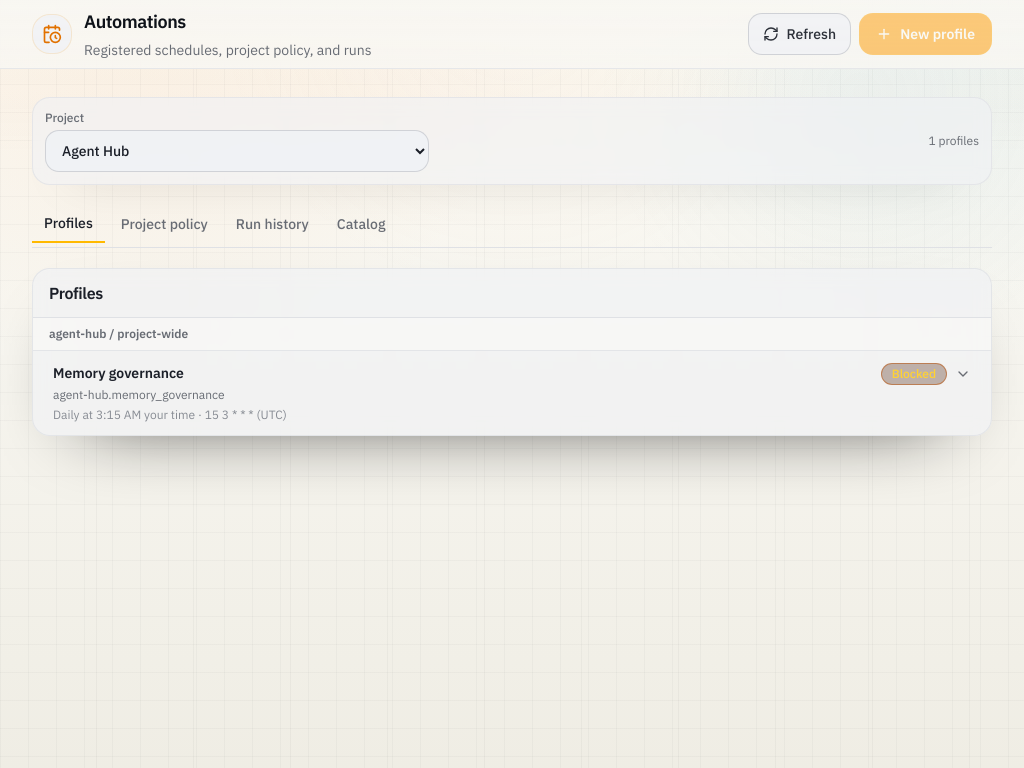
Test case: Automations project policy › shows no next run for a blocked profile instead of its stale date
Click the button "Memory governance".
click(118, 373)  # box left=33, top=351, right=991, bottom=435
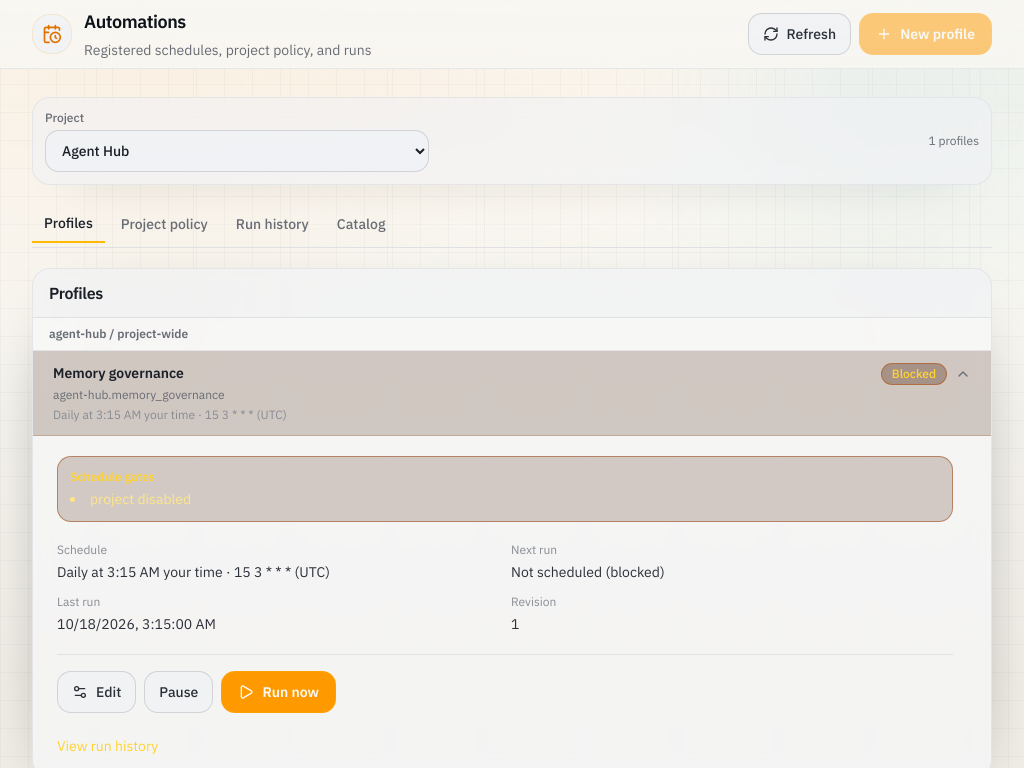
expect the text "Not scheduled (blocked)" is shown: met, box left=511, top=563, right=665, bottom=581
